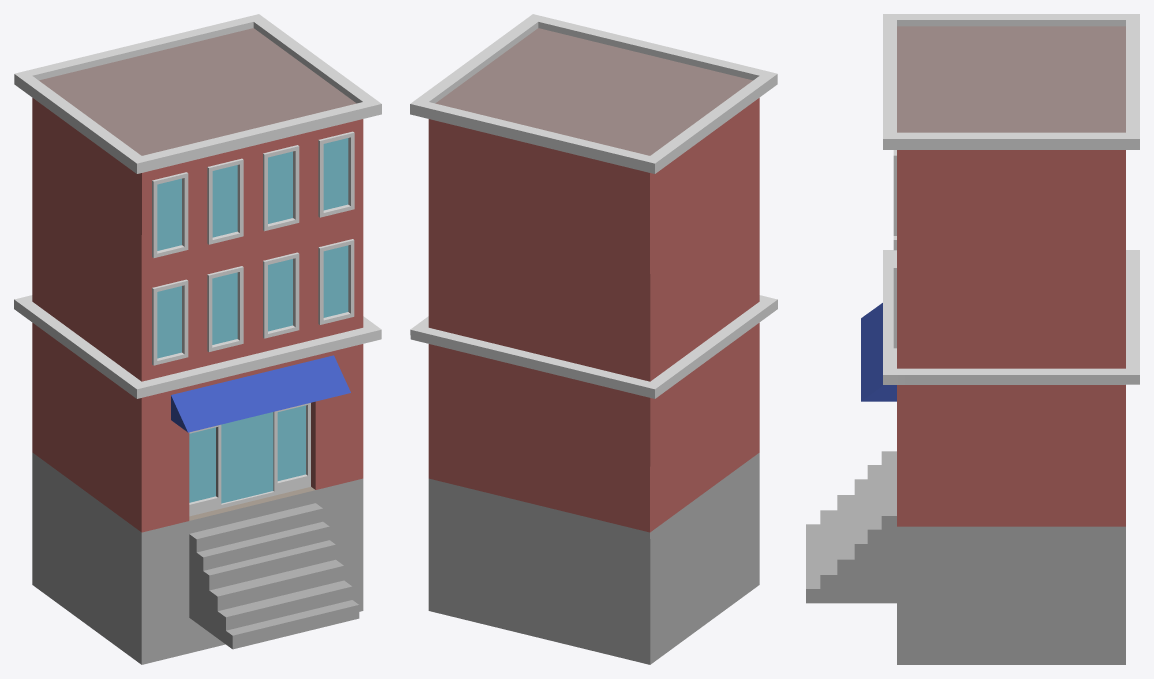
The picture shows the model from 3 angles, left to right: view 1: azimuth 30°, elevation 25°; view 2: azimuth 150°, elevation 25°; view 3: azimuth 270°, elevation 25°; orthographic projection. The views are drawn at different scales.
Parts seen in each view (by area): view 1: pCube21; view 2: pCube21; view 3: pCube21.
Boxes of the visible parts, bbox=[...] form: pCube21: bbox=[14, 14, 381, 664]; pCube21: bbox=[410, 14, 777, 664]; pCube21: bbox=[806, 14, 1139, 664].
Bounding box in the file's own units: 619 × 1230 × 699.
